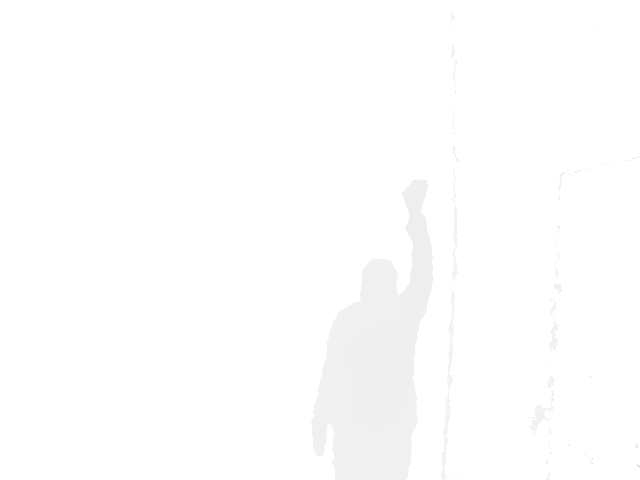hand: (401, 177, 429, 213)
head: (360, 258, 398, 305)
person: (310, 177, 434, 480)
